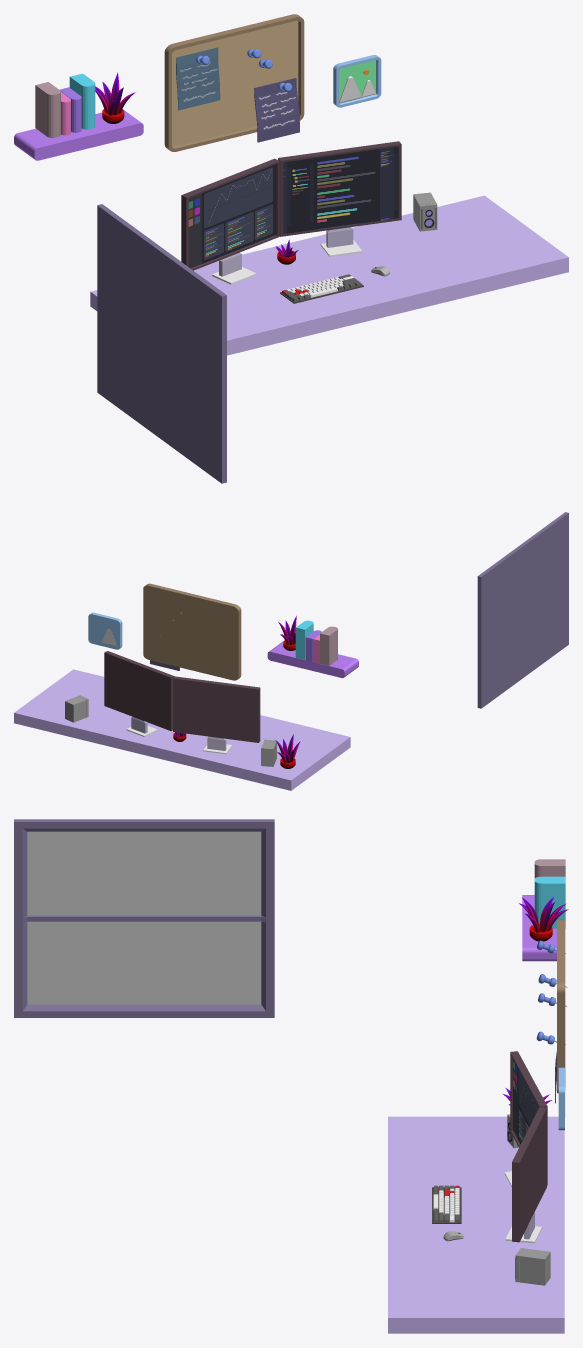
Rendered from my_room_1.glb.
3 views of the same model, one above another, from view 1: azimuth 30°, elevation 25°; view 2: azimuth 150°, elevation 25°; view 3: azimuth 270°, elevation 25° (orthographic). The views are drawn at different scales.
Visible parts, largest first — view 1: Plane.001, Wall.001, Plane, Plane.002, Plane.005, Plane.042, Plane.047, Plane.048, Plane.041, Plane.043, Cube.008, Plane.046 (+2 smaller); view 2: Plane.001, Wall.001, Plane, Plane.005, Plane.002, Plane.042, Plane.041, Plane.043, Plane.039, Plane.046, Stylized_potted_plant_3.001, Plane.040 (+1 smaller); view 3: Wall.001, Plane.001, Plane.002, Plane.005, Plane, Plane.039, Plane.046, Plane.042, Cube.008, Stylized_potted_plant_3.
Part boxes in pixels (x1,y1,x2,y2): Plane.001: (90,195,568,355); Wall.001: (97,204,226,483); Plane: (164,14,304,151); Plane.002: (278,141,401,236); Plane.005: (181,158,279,270); Plane.042: (14,109,143,160); Plane.047: (254,78,299,142); Plane.048: (176,47,220,110); Plane.041: (333,55,381,107); Plane.043: (35,82,60,137); Cube.008: (281,274,361,301); Plane.046: (69,73,95,129); Plane.001: (14,669,350,790); Wall.001: (477,512,568,708); Plane: (143,583,241,680); Plane.005: (173,676,260,742); Plane.002: (104,651,174,730); Plane.042: (267,641,358,678); Plane.041: (88,612,122,649); Plane.043: (320,626,337,665); Plane.039: (65,695,88,722); Plane.046: (295,620,313,659); Stylized_potted_plant_3.001: (275,734,299,768); Plane.040: (261,739,276,766); Wall.001: (14,819,274,1017); Plane.001: (388,1116,564,1333); Plane.002: (512,1107,546,1242); Plane.005: (510,1051,547,1185); Plane: (557,919,565,1093); Plane.039: (515,1248,550,1285); Plane.046: (534,876,565,928); Plane.042: (522,895,556,961); Cube.008: (433,1185,459,1222); Stylized_potted_plant_3: (519,897,568,941).
Size of the model in its own units: 6.03 by 2.66 by 5.27.
Materials: 17 (6 with a texture image).
